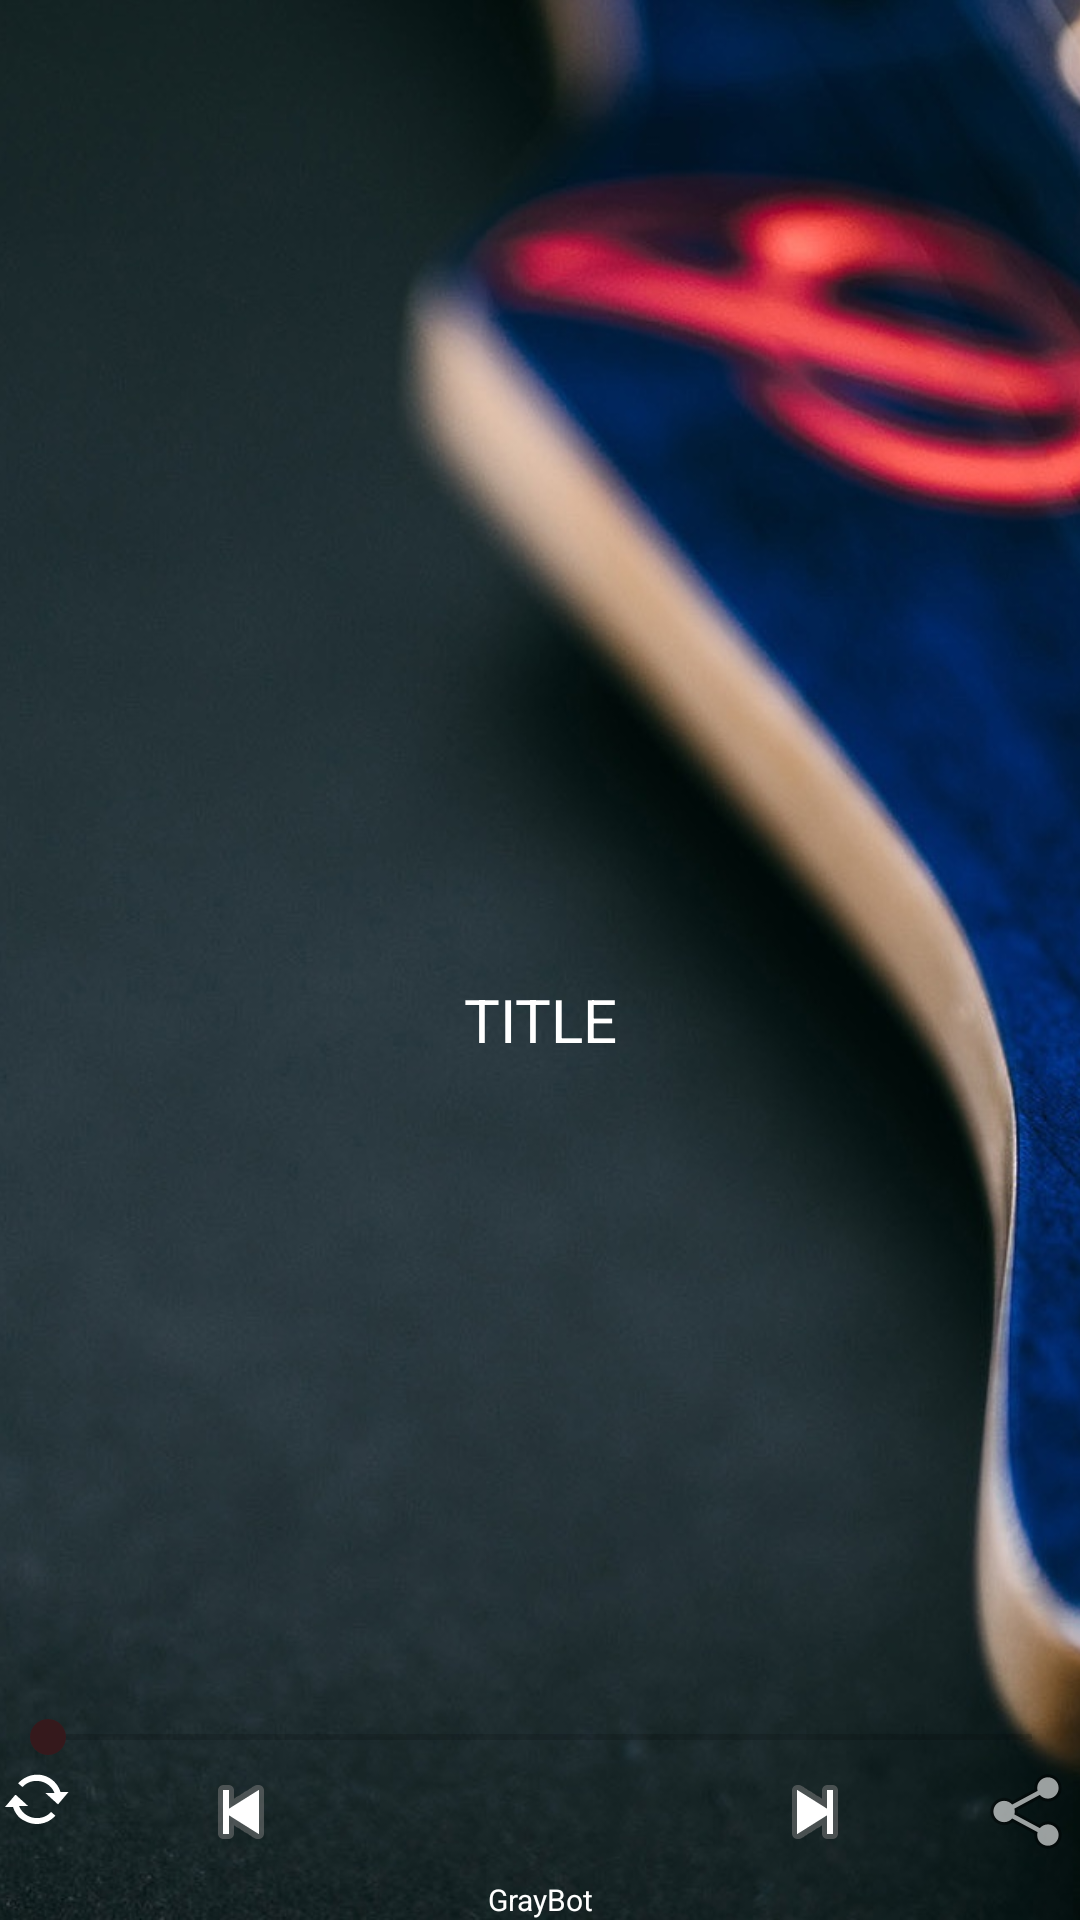

Where icons sit on this 1080w x 1920h app screen, as [x1=x1, y1=y1, x2=x2, y2=y2]:
next: [x1=792, y1=1785, x2=838, y2=1839]
previous: [x1=218, y1=1785, x2=264, y2=1839]
share: [x1=993, y1=1777, x2=1059, y2=1846]
sync: [x1=5, y1=1774, x2=69, y2=1824]
